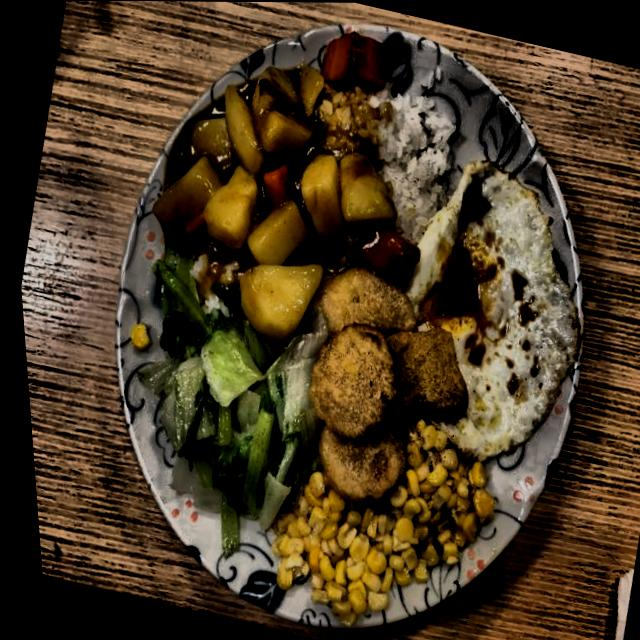Food: (383, 150, 615, 474), (274, 259, 492, 520), (154, 65, 378, 299), (362, 93, 465, 226)
